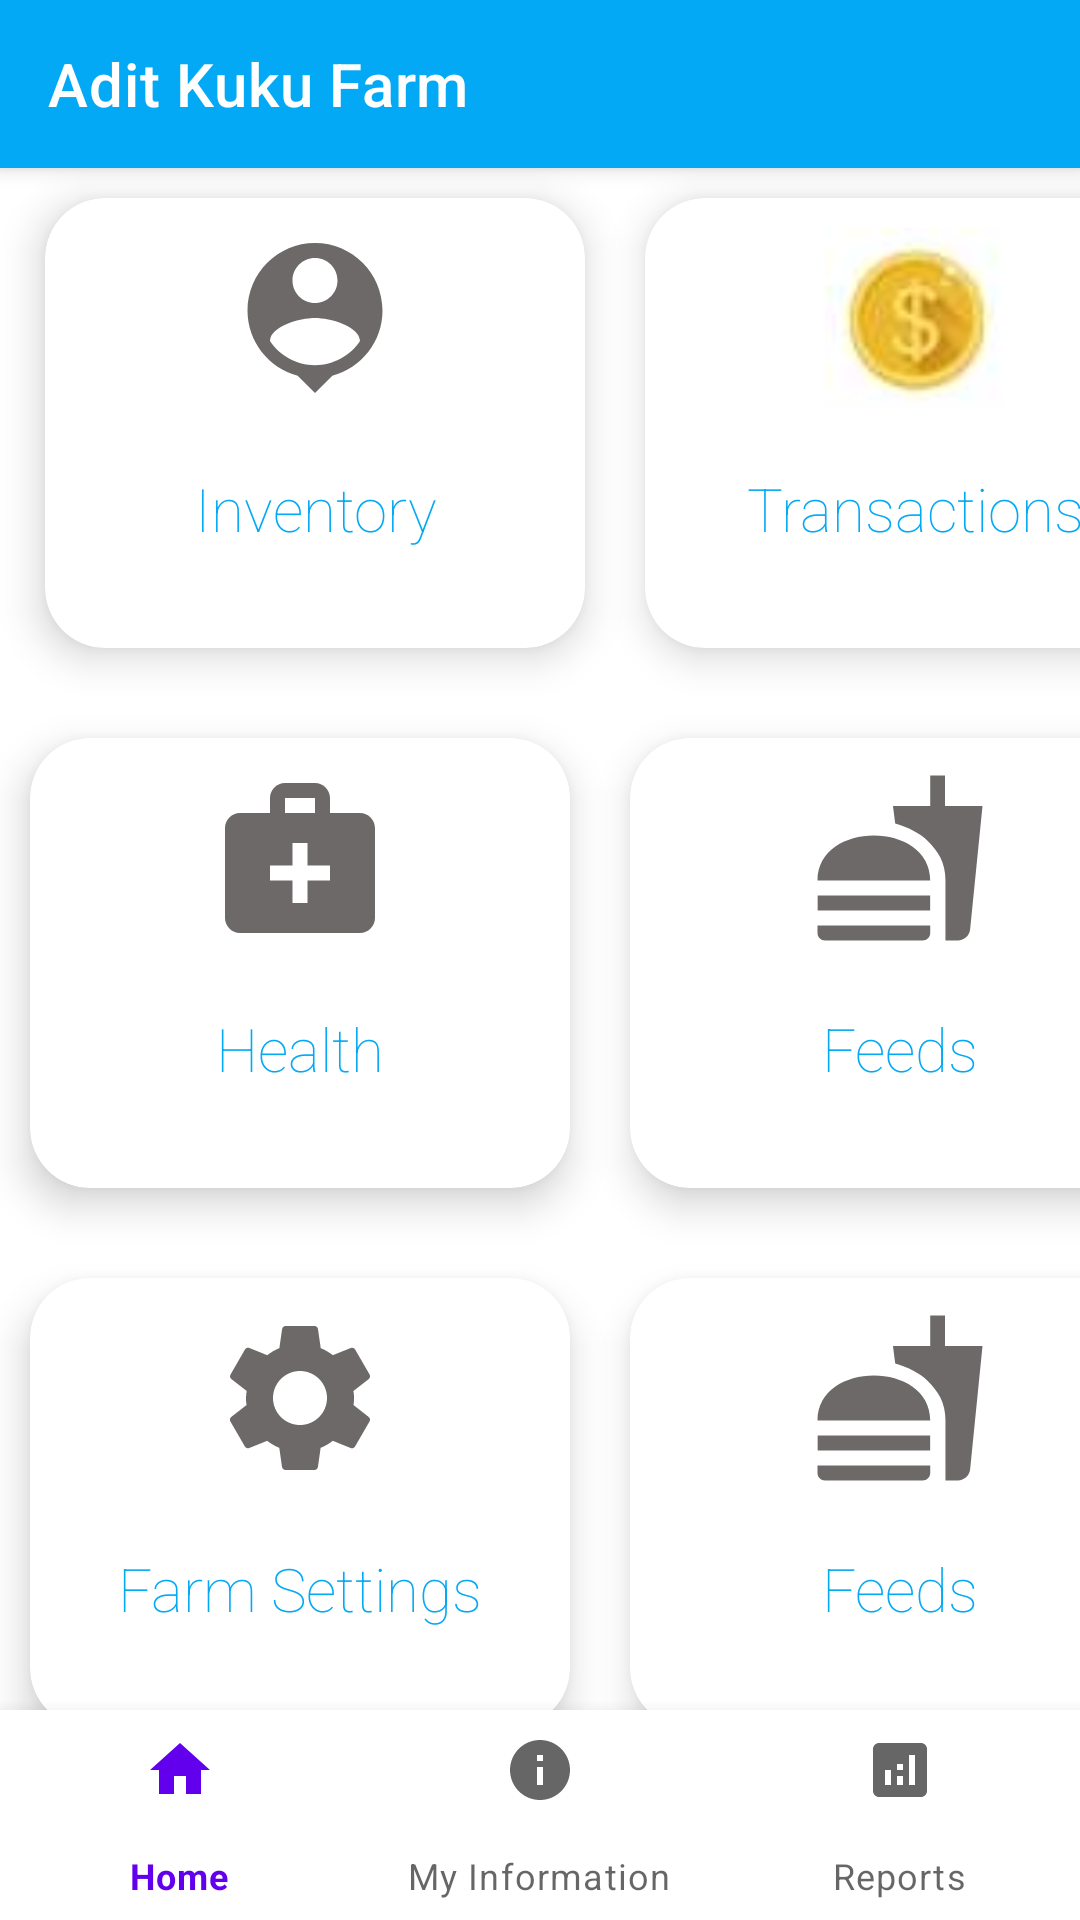

Screen size 1080x1920. Icon name, then its center in pixels as (x=x, y=y):
profile: (x=315, y=318)
